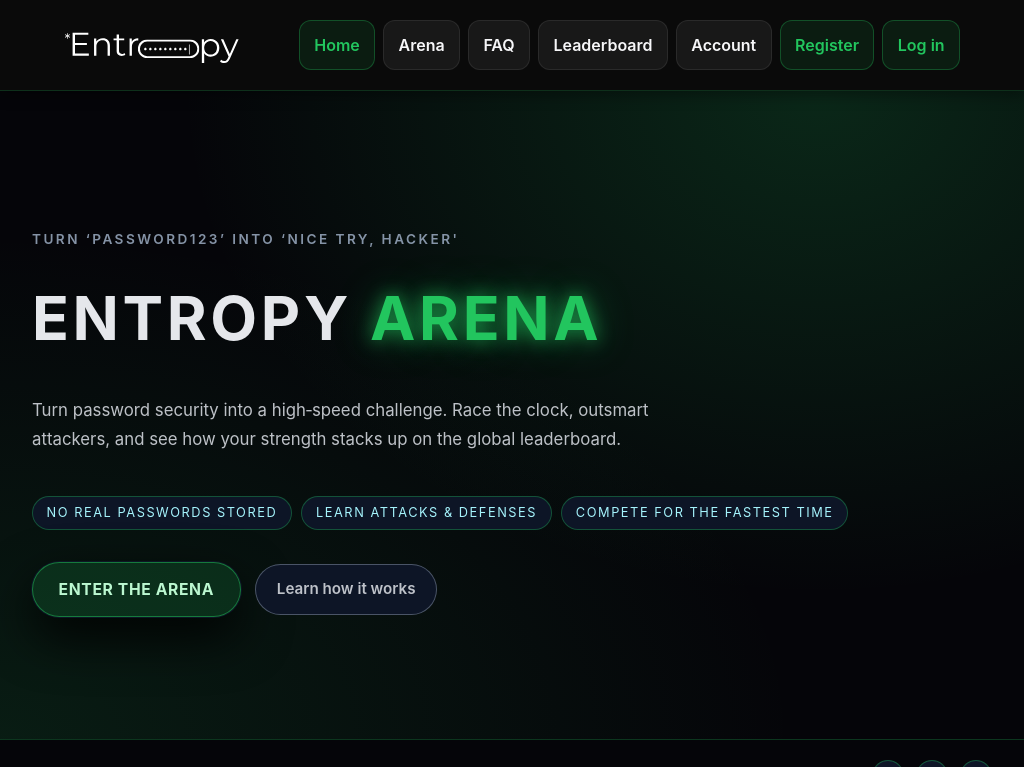
Test: Entropy Arena Tests › should click Enter the Arena button and navigate to arena page
This screenshot has width=1024, height=767.
What coordinates should you click on to do the following:
click the link "Enter the Arena"
I would click on:
 (137, 590)
Its box is [32, 562, 241, 618].
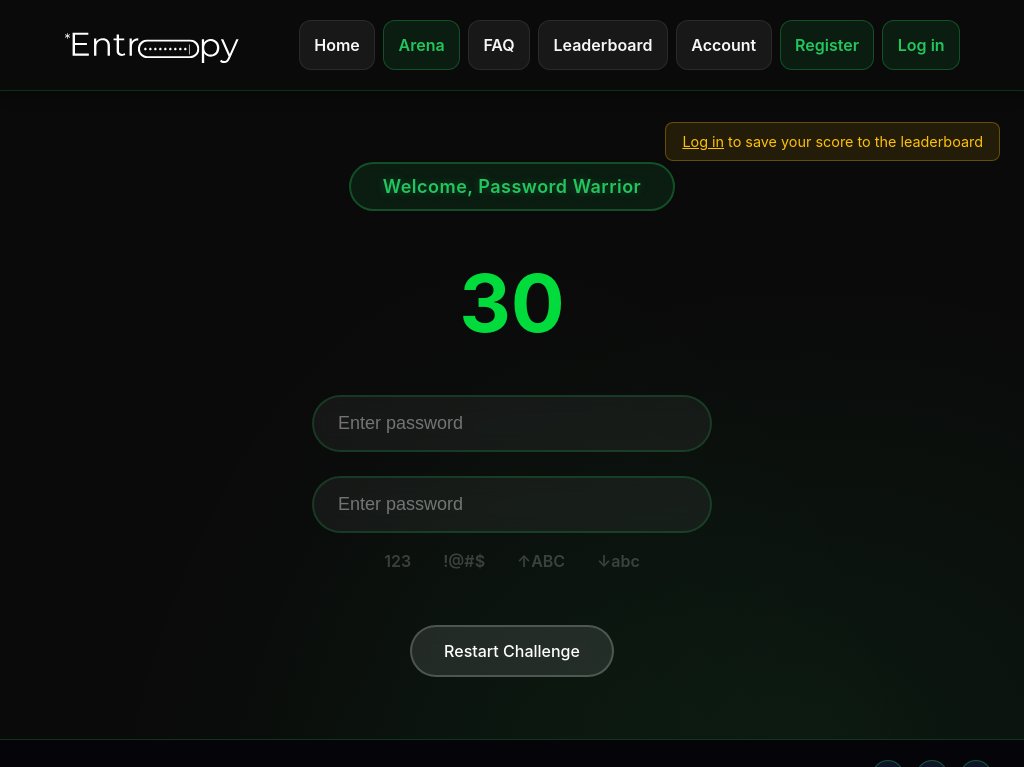
Check: the element with class "arena" is shown
